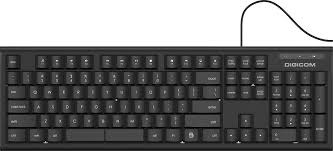keyboard: (0, 44, 333, 151)
